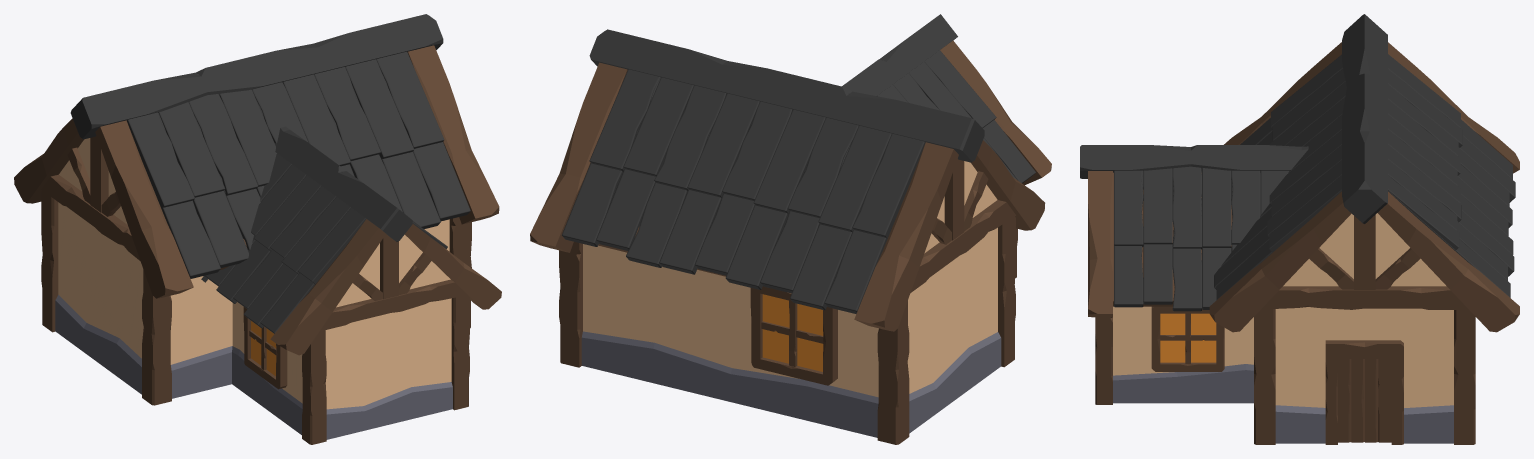
File: HOUSE_3 1.fbx
The picture shows the model from 3 angles, left to right: view 1: azimuth 30°, elevation 25°; view 2: azimuth 150°, elevation 25°; view 3: azimuth 270°, elevation 25°; orthographic projection. The views are drawn at different scales.
Visible parts, largest first — view 1: Cube.020, Cube.012, Cube.022, Cube.011, Cube.019, Plane.022, Cube.032, Cube.023, Plane.004, Cube.027, Cube.016, Cube.028 (+8 smaller); view 2: Cube.021, Cube.011, Cube.017, Cube.012, Cube.016, Plane.022, Plane.004, Cube.032, Plane.034, Plane.018, Plane.019, Cube.023 (+4 smaller); view 3: Cube.011, Cube.012, Cube.031, Cube.021, Cube.020, Plane.022, Cube.017, Cube.030, Plane.004, Plane.034, Cube.027, Plane.014 (+10 smaller).
Boxes of the visible parts, x1=… form: Cube.020: x1=127, y1=51, x2=444, y2=207; Cube.012: x1=14, y1=45, x2=499, y2=298; Cube.022: x1=232, y1=234, x2=451, y2=409; Cube.011: x1=58, y1=138, x2=449, y2=364; Cube.019: x1=127, y1=76, x2=470, y2=278; Plane.022: x1=70, y1=14, x2=443, y2=139; Cube.032: x1=251, y1=153, x2=365, y2=284; Cube.023: x1=270, y1=219, x2=501, y2=355; Plane.004: x1=41, y1=190, x2=471, y2=405; Cube.027: x1=232, y1=346, x2=452, y2=439; Cube.016: x1=55, y1=295, x2=232, y2=398; Cube.028: x1=201, y1=215, x2=320, y2=333; Cube.021: x1=589, y1=69, x2=925, y2=238; Cube.011: x1=583, y1=161, x2=997, y2=397; Cube.017: x1=562, y1=77, x2=892, y2=313; Cube.012: x1=530, y1=62, x2=1045, y2=331; Cube.016: x1=581, y1=331, x2=1001, y2=437; Plane.022: x1=589, y1=29, x2=984, y2=162; Plane.004: x1=559, y1=216, x2=1015, y2=444; Cube.032: x1=877, y1=50, x2=996, y2=127; Plane.034: x1=842, y1=14, x2=957, y2=96; Plane.018: x1=750, y1=286, x2=837, y2=385; Plane.019: x1=762, y1=294, x2=823, y2=371; Cube.023: x1=940, y1=40, x2=1051, y2=185; Cube.011: x1=1275, y1=213, x2=1453, y2=407; Cube.012: x1=1209, y1=42, x2=1519, y2=332; Cube.031: x1=1114, y1=148, x2=1289, y2=249; Cube.021: x1=1388, y1=54, x2=1462, y2=249; Cube.020: x1=1267, y1=54, x2=1365, y2=251; Plane.022: x1=1342, y1=14, x2=1387, y2=223; Cube.017: x1=1388, y1=119, x2=1515, y2=297; Cube.030: x1=1114, y1=169, x2=1236, y2=311; Plane.004: x1=1254, y1=309, x2=1475, y2=444; Plane.034: x1=1080, y1=145, x2=1308, y2=178; Cube.027: x1=1113, y1=364, x2=1253, y2=403; Plane.014: x1=1338, y1=359, x2=1391, y2=442.
Bounding box in the file's own units: 1379 × 1015 × 1502.
